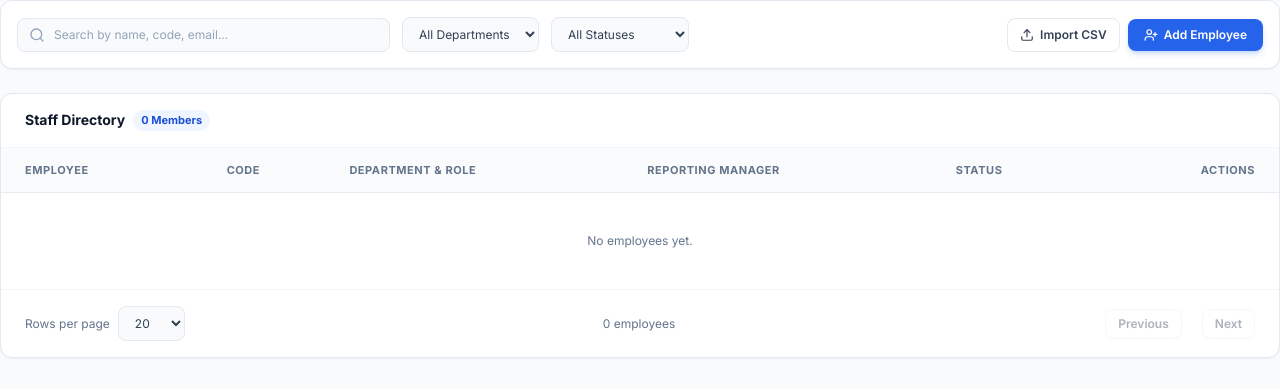
Scenario: Real read-only Employees directory › distinguishes empty directory from filtered no-results and can clear filters
expect the text "No employees yet." is shown: met, box [1,192,1279,289]
Select "ACTIVE" in the dropdown named "Employment status": point(620, 34) [551,17,689,52]
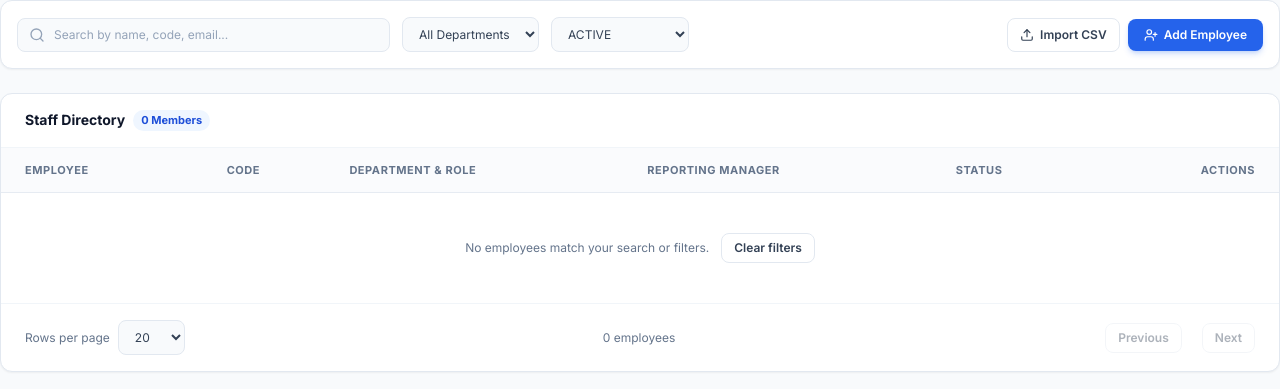
expect the text "No employees match your search or filters." is shown: met, box [465,240,709,255]
Click the button "Clear filters": point(768, 248) [721,233,815,263]
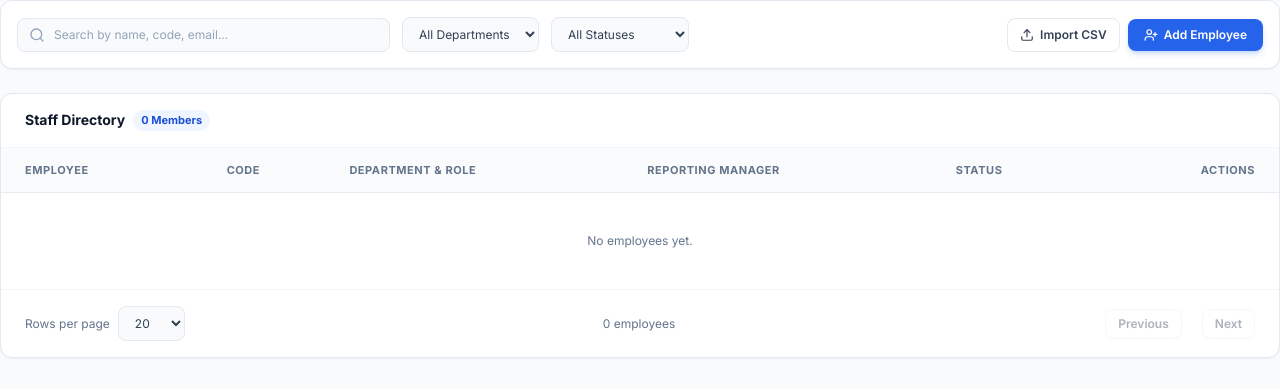
expect the text "No employees yet." is shown: met, box [1,192,1279,289]
